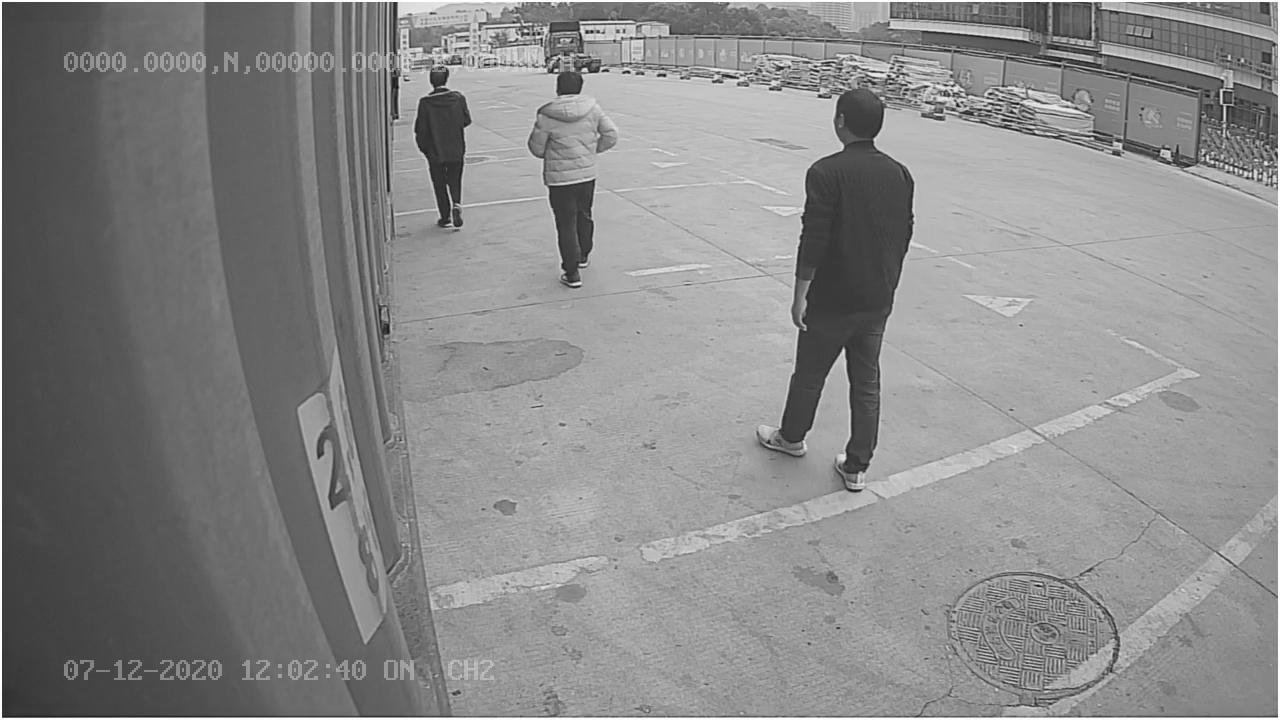person: (752, 87, 921, 490), (524, 69, 620, 292)
